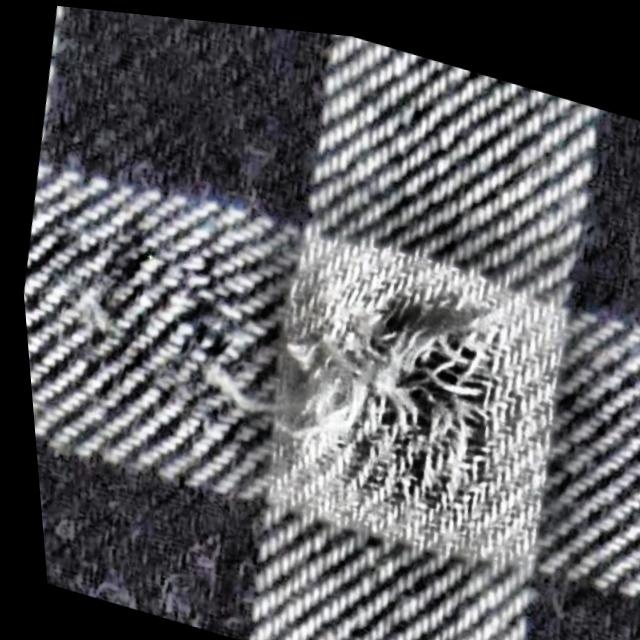Stitch: (39, 171, 531, 529)
